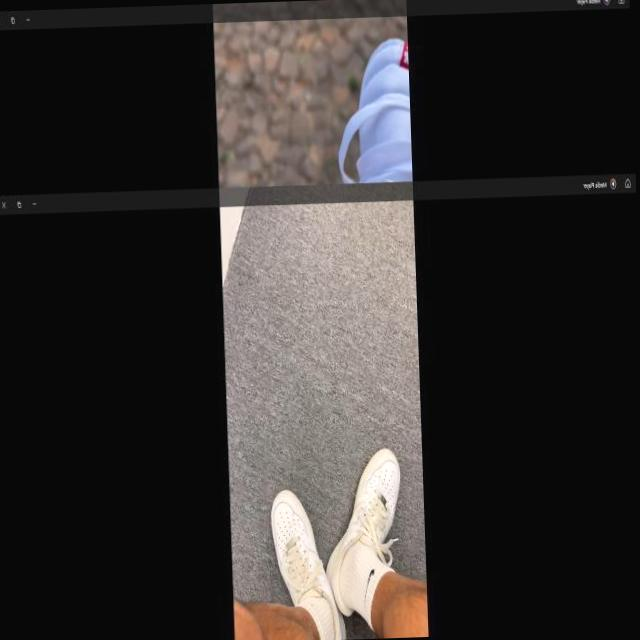nike_original_airforce: (320, 447, 406, 622), (269, 487, 346, 640)
